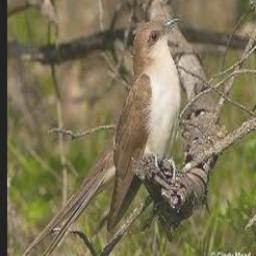Cuckoo: (105, 16, 184, 231)
